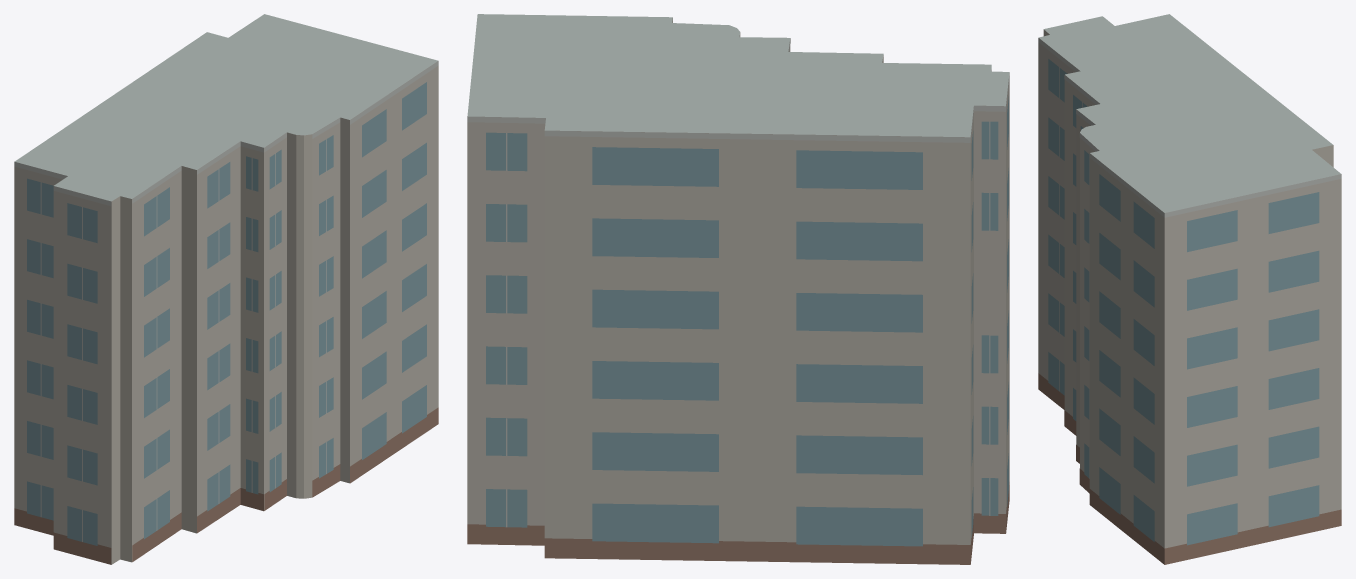
The model's file is survey-upis-32727200.glb.
3 views of the same model, side by side, from view 1: azimuth 30°, elevation 25°; view 2: azimuth 150°, elevation 25°; view 3: azimuth 270°, elevation 25° (orthographic). The views are drawn at different scales.
Parts seen in each view (by area): view 1: survey-upis-32727200.tmp; view 2: survey-upis-32727200.tmp; view 3: survey-upis-32727200.tmp.
Part boxes in pixels (x1,y1,x2,y2): survey-upis-32727200.tmp: [14, 14, 438, 564]; survey-upis-32727200.tmp: [467, 14, 1009, 564]; survey-upis-32727200.tmp: [1038, 14, 1341, 564].
Bounding box in the file's own units: 22.22 × 18.3 × 14.3.
